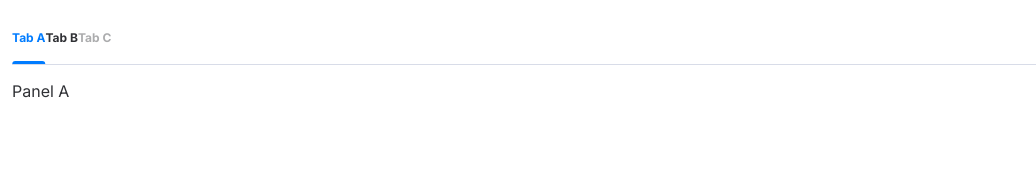
Tabs › switches panel on tab click
Click the tab "Tab B".
click(62, 38)  # box [46,12,78,64]
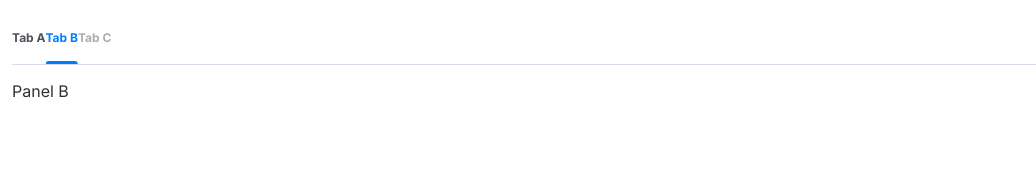
Check: the panel reads "Panel B", box [12,81,69,101]
